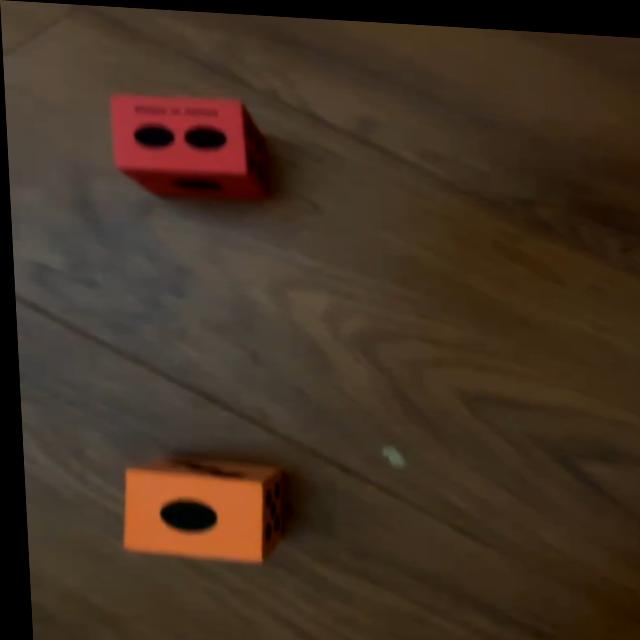red_block: (107, 90, 265, 201)
